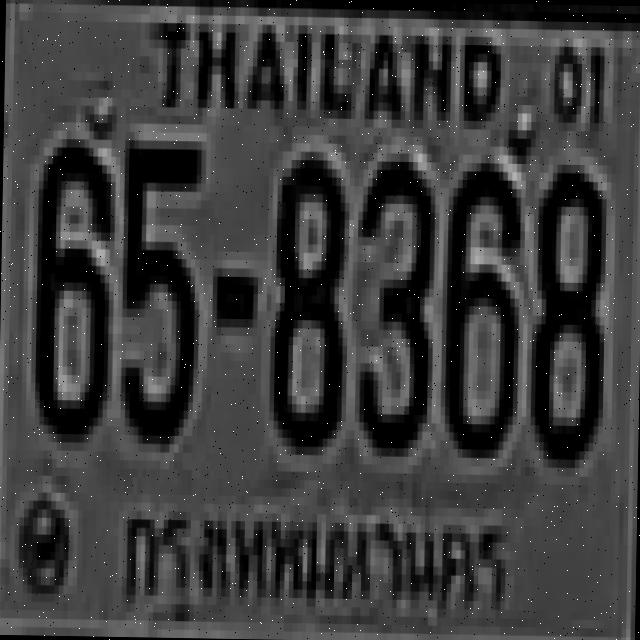3: (354, 152, 431, 448)
5: (115, 132, 197, 436)
6: (30, 130, 111, 434), (439, 154, 516, 450)
8: (526, 156, 602, 460), (268, 146, 341, 442)
Bangkok: (112, 483, 532, 640)
